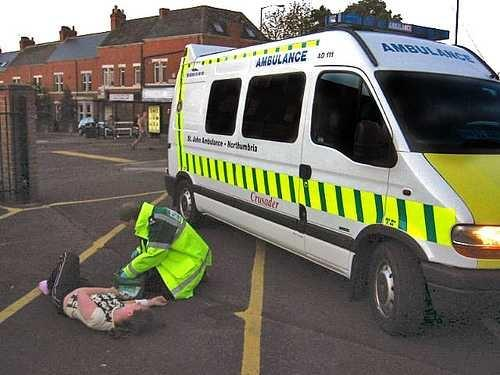car: (164, 24, 499, 336)
